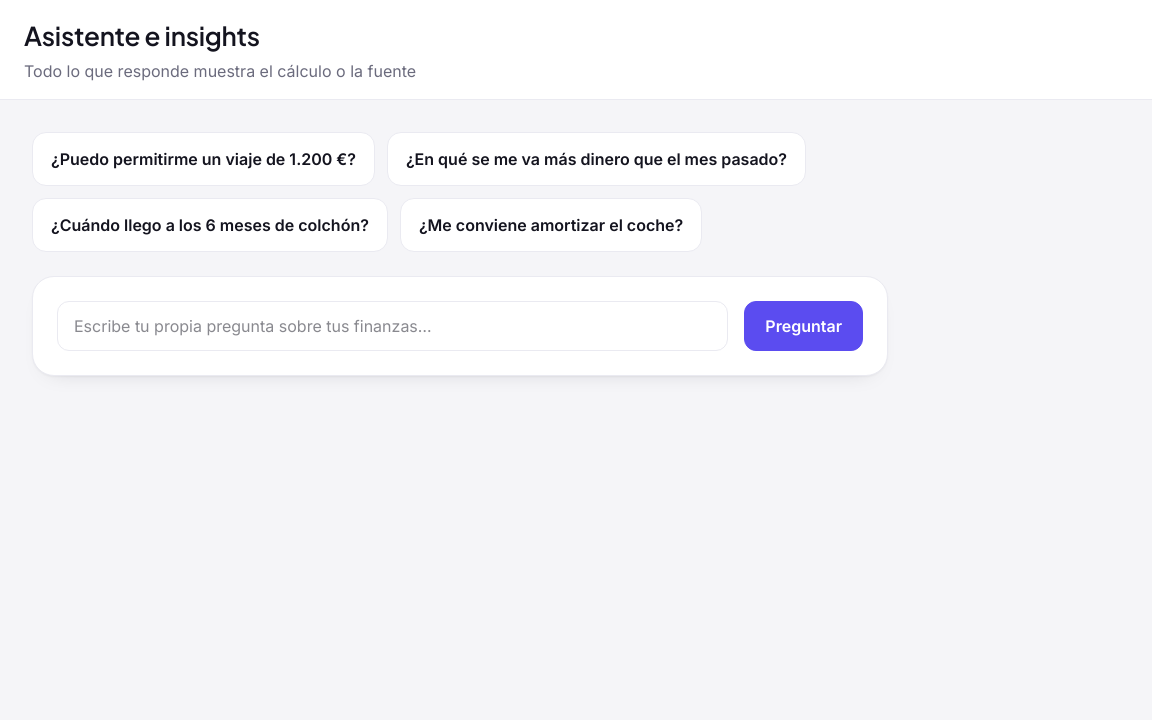
Scenario: AssistantPage › la respuesta del viaje calcula el disponible hoy y lleva badge, enlace y acción
Click the button "¿Puedo permitirme un viaje de 1.200 €?": (203, 159) [32,132,375,186]
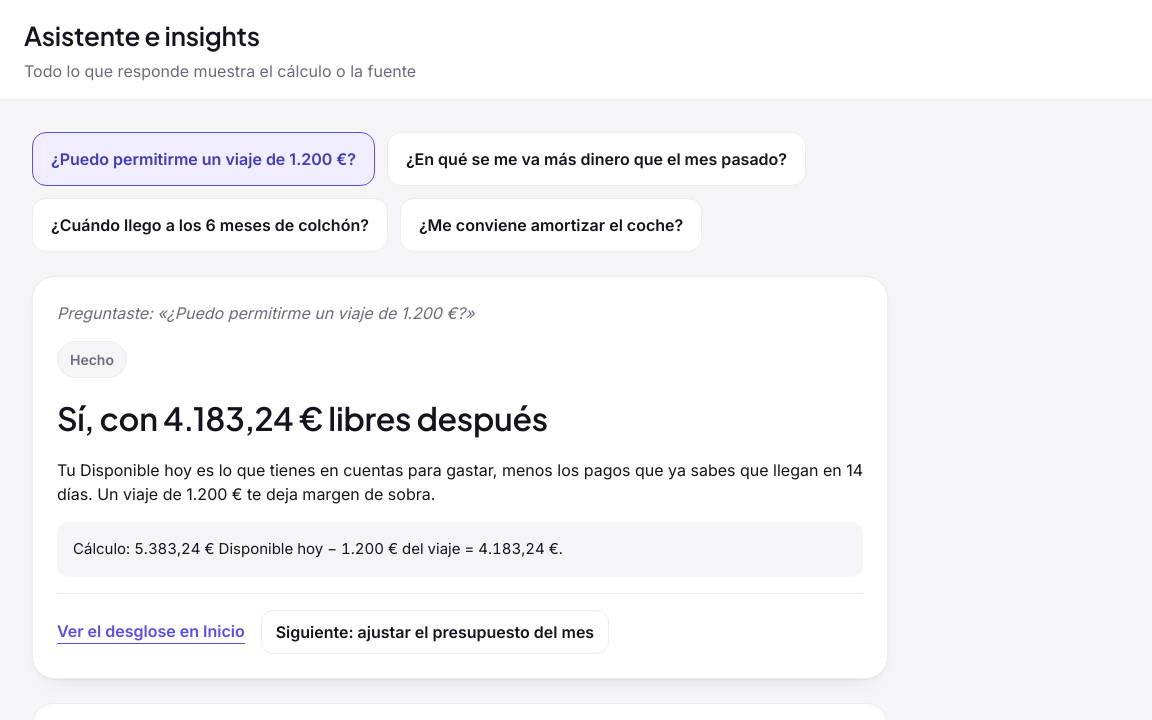
Now the text "Hecho" is shown, box [57,341,127,378]
Now the text "Sí, con 4.183,24 € libres después" is shown, box [57,398,548,438]
Now the text "Cálculo: 5.383,24 €" is shown, box [73,539,563,558]
